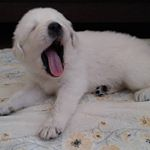puppy: (10, 7, 150, 138)
